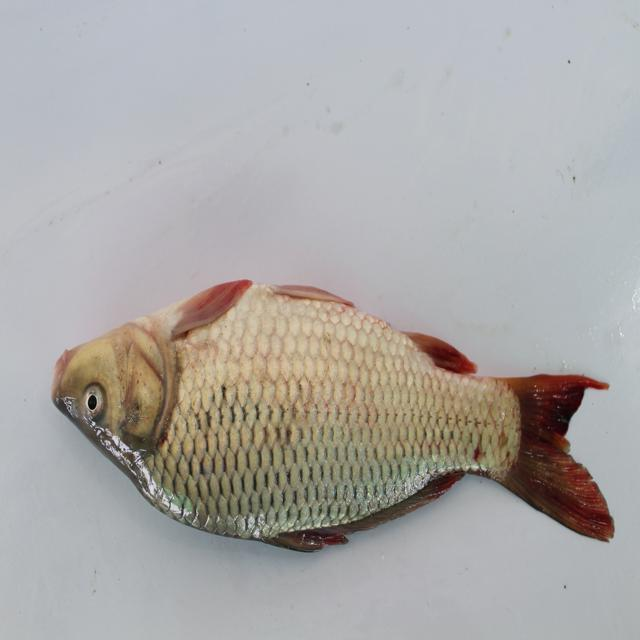CommonCarp: (50, 256, 625, 563)
